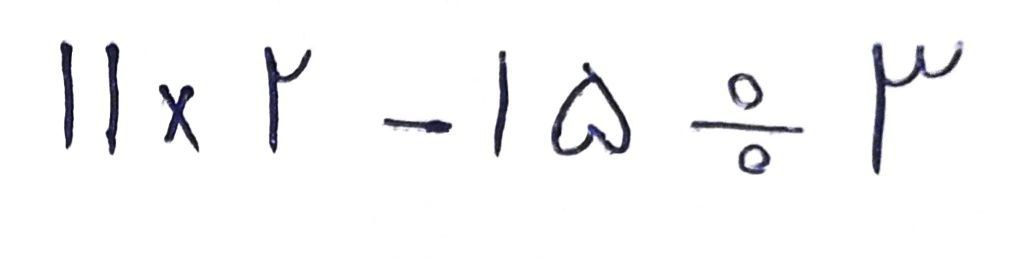character: (872, 41, 964, 175), (693, 73, 803, 175), (550, 63, 629, 156), (266, 44, 313, 154), (159, 85, 203, 151), (61, 39, 80, 151), (495, 48, 510, 159), (106, 43, 120, 155), (383, 118, 454, 134)
